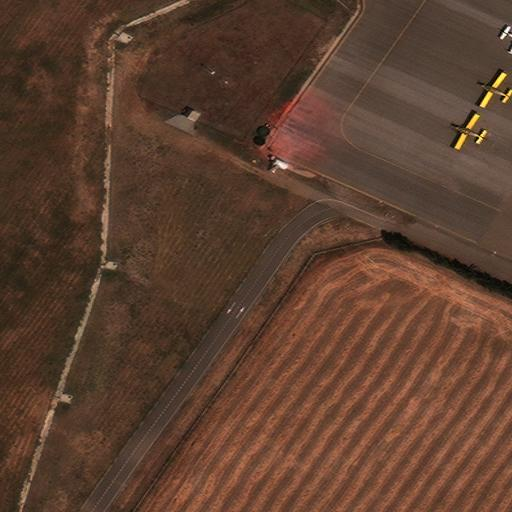Small Civil Transport: (479, 72, 510, 106), (453, 113, 483, 148)
